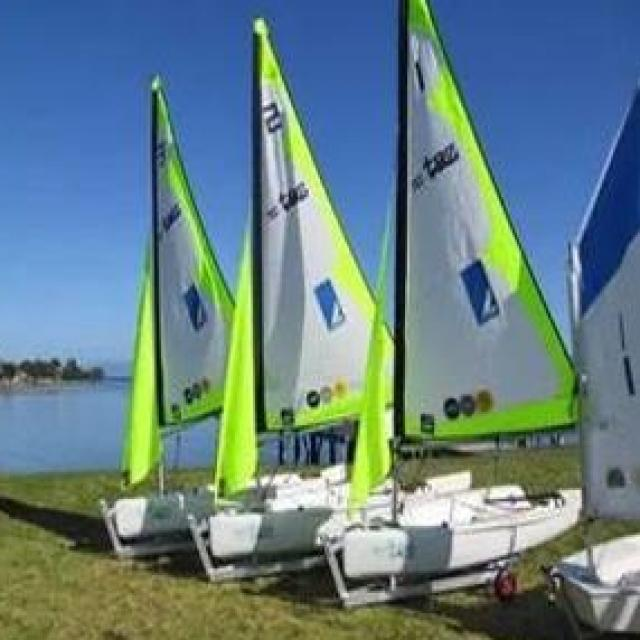sailboat: (324, 0, 584, 597), (190, 18, 427, 587), (98, 77, 255, 547)
